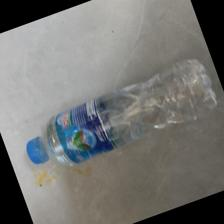Lavie: (23, 56, 216, 168)
